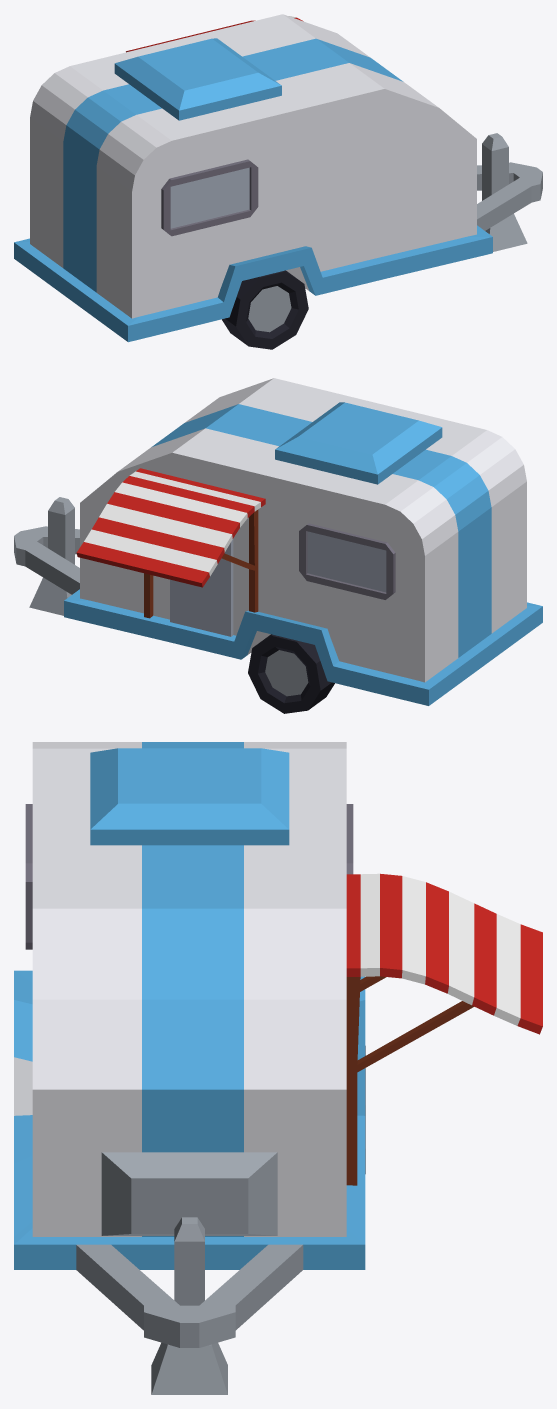
The model's file is trailer01.fbx.
3 renders of one model, top to bottom at view 1: azimuth 30°, elevation 25°; view 2: azimuth 150°, elevation 25°; view 3: azimuth 270°, elevation 25°, orthographic. The views are drawn at different scales.
Parts seen in each view (by area): view 1: Cube; view 2: Cube; view 3: Cube.
Boxes of the visible parts, box(x1,y1,x2,y2) form: Cube: box(14, 14, 542, 349); Cube: box(14, 378, 542, 713); Cube: box(14, 742, 542, 1394).
Size of the model in its own units: 531 by 268 by 337.
